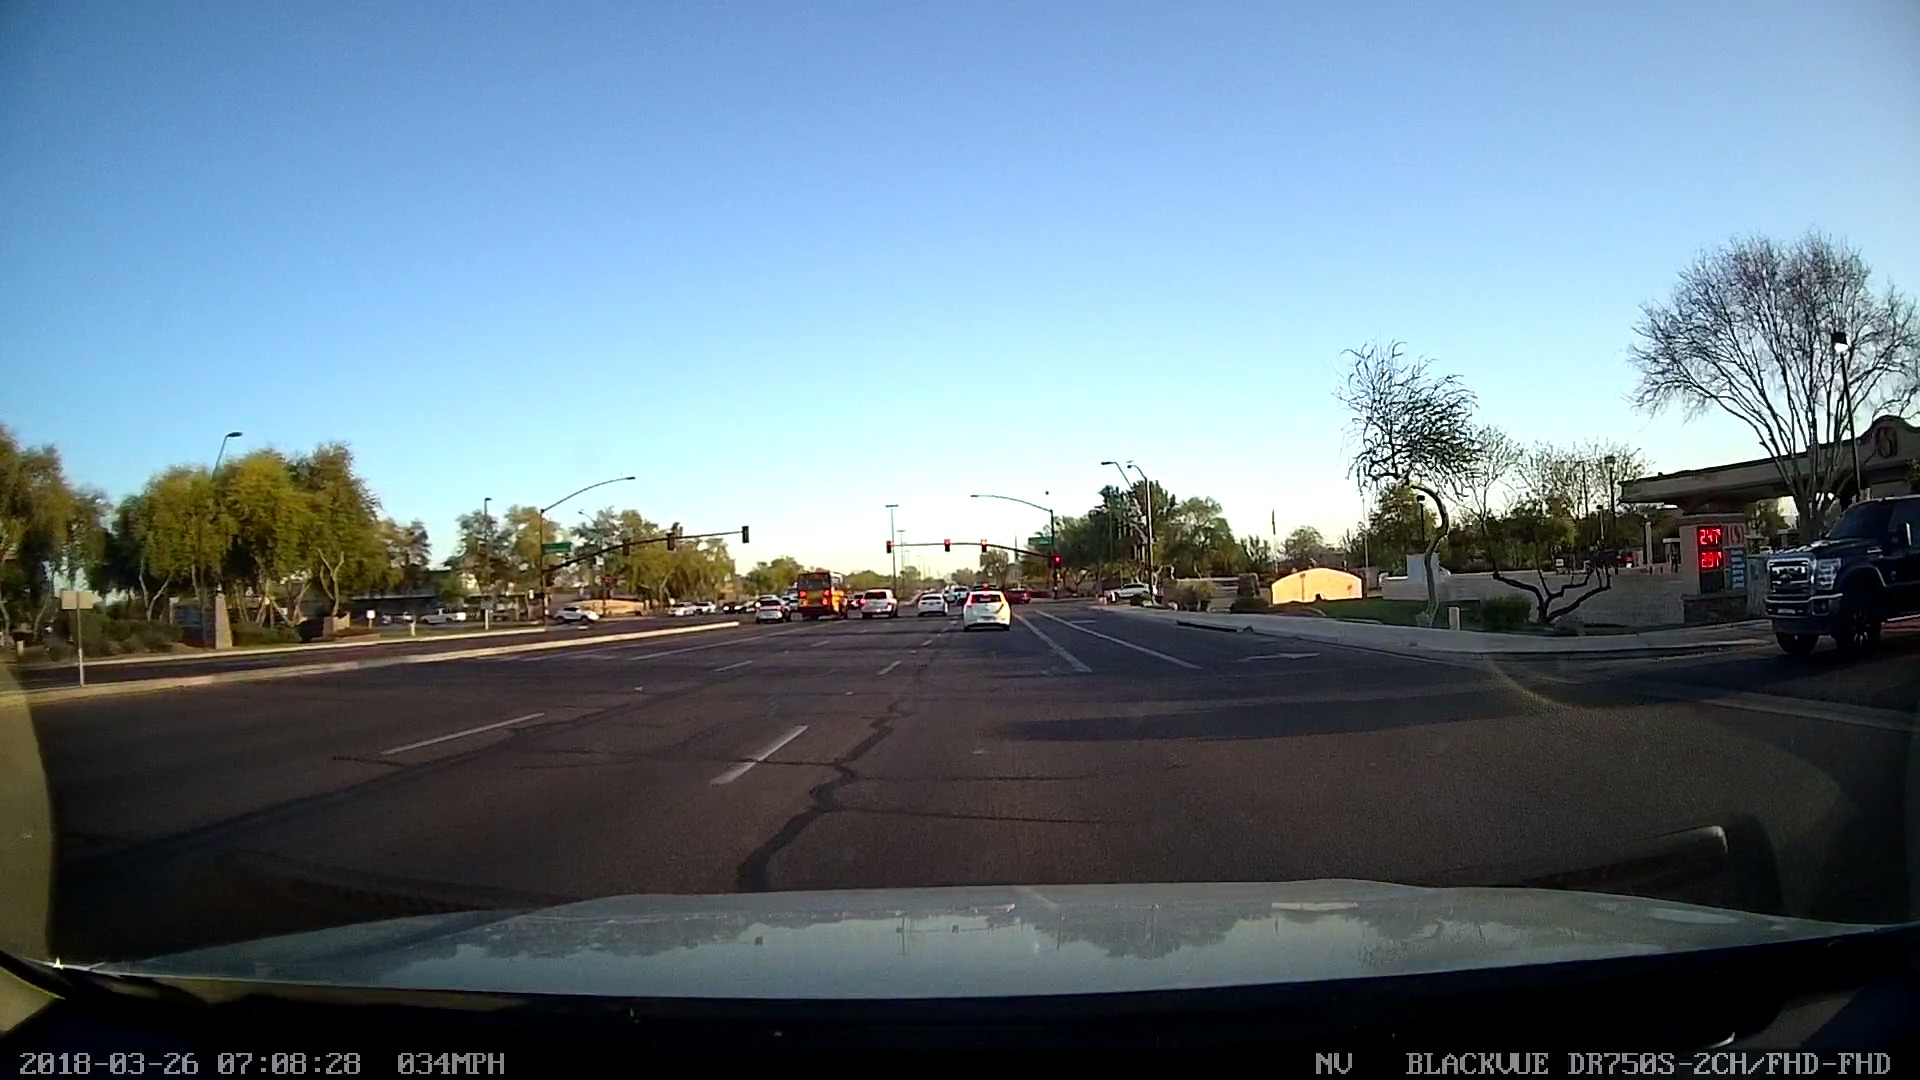vehicle: (1754, 495, 1917, 657), (793, 567, 853, 618), (957, 578, 1011, 633), (753, 585, 787, 629), (913, 580, 948, 621)
